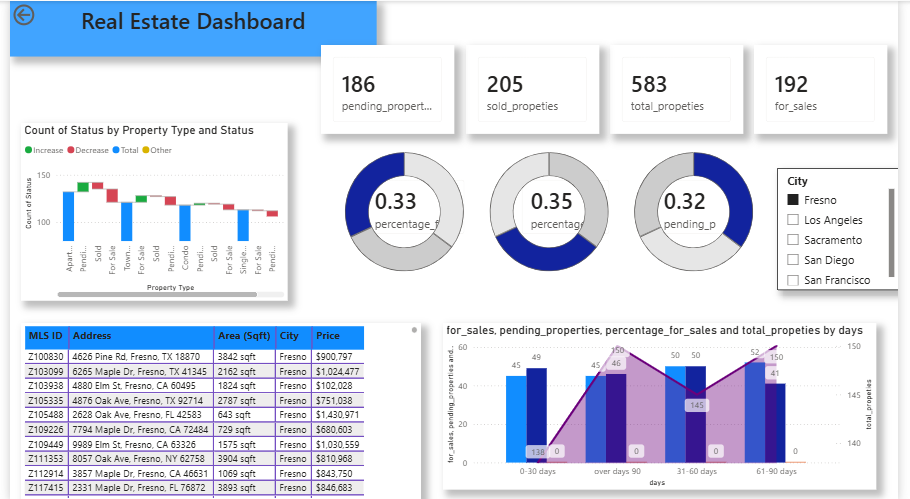

Layout of this report page (visuals, bound fields, positions):
{"tool":"powerbi","page":{"name":"Page 1","canvas":[1280,720],"ordinal":0},"visuals":[{"type":"cardVisual","fields":{"Data":["Real Estate.total_propeties"]},"box":[864,64,192,128],"z":0},{"type":"textbox","box":[0,0,528,80],"z":1000},{"type":"cardVisual","fields":{"Data":["Real Estate.sold_propeties"]},"box":[656,64,192,128],"z":2000},{"type":"cardVisual","fields":{"Data":["Real Estate.for_sales"]},"box":[1072,64,192,128],"z":3000},{"type":"cardVisual","fields":{"Data":["Real Estate.pending_properties"]},"box":[448,64,192,128],"z":4000},{"type":"cardVisual","fields":{"Data":["Real Estate.percentage_p"]},"box":[720,240,160,112],"z":5000},{"type":"cardVisual","fields":{"Data":["Real Estate.percentage_for_sales"]},"box":[496,240,176,112],"z":6000},{"type":"cardVisual","fields":{"Data":["Real Estate.pending_p"]},"box":[912,240,144,112],"z":7000},{"type":"donutChart","fields":{"Category":["Real Estate.Status"],"Y":["Real Estate.total_propeties"]},"box":[544,192,464,224],"z":8000},{"type":"donutChart","fields":{"Category":["Real Estate.Status"],"Y":["Real Estate.total_propeties"]},"box":[448,192,240,224],"z":9000},{"type":"donutChart","fields":{"Category":["Real Estate.Status"],"Y":["Real Estate.total_propeties"]},"box":[816,192,336,224],"z":10000},{"type":"lineClusteredColumnComboChart","fields":{"Category":["Real Estate.days"],"Y":["Real Estate.for_sales","Real Estate.pending_properties","Real Estate.percentage_for_sales"],"Y2":["Real Estate.total_propeties"]},"box":[624,464,624,240],"z":11000},{"type":"tableEx","fields":{"Values":["Real Estate.MLS ID","Real Estate.Address","Real Estate.Area (Sqft)","Real Estate.City","Real Estate.Price"]},"box":[16,464,576,256],"z":12000},{"type":"actionButton","box":[0,0,100,40],"z":13000},{"type":"waterfallChart","fields":{"Category":["Real Estate.Property Type"],"Breakdown":["Real Estate.Status"],"Y":["CountNonNull(Real Estate.Status)"]},"box":[16,176,384,256],"z":14000},{"type":"slicer","fields":{"Values":["Real Estate.City"]},"box":[1104,240,176,176],"z":15000}]}

Visuals, with their boxes on the page's 1280x720 design canvas (x1, y1, x2, y2). These are canvas units, not pixel positions in the 910x499 screenshot, which may show the page scaled, cropped or inside an application window:
cardVisual - Real Estate.total_propeties: [x1=864, y1=64, x2=1056, y2=192]
textbox: [x1=0, y1=0, x2=528, y2=80]
cardVisual - Real Estate.sold_propeties: [x1=656, y1=64, x2=848, y2=192]
cardVisual - Real Estate.for_sales: [x1=1072, y1=64, x2=1264, y2=192]
cardVisual - Real Estate.pending_properties: [x1=448, y1=64, x2=640, y2=192]
cardVisual - Real Estate.percentage_p: [x1=720, y1=240, x2=880, y2=352]
cardVisual - Real Estate.percentage_for_sales: [x1=496, y1=240, x2=672, y2=352]
cardVisual - Real Estate.pending_p: [x1=912, y1=240, x2=1056, y2=352]
donutChart - Real Estate.Status x Real Estate.total_propeties: [x1=544, y1=192, x2=1008, y2=416]
donutChart - Real Estate.Status x Real Estate.total_propeties: [x1=448, y1=192, x2=688, y2=416]
donutChart - Real Estate.Status x Real Estate.total_propeties: [x1=816, y1=192, x2=1152, y2=416]
lineClusteredColumnComboChart - Real Estate.days x Real Estate.for_sales: [x1=624, y1=464, x2=1248, y2=704]
tableEx - Real Estate.MLS ID x Real Estate.Address: [x1=16, y1=464, x2=592, y2=720]
actionButton: [x1=0, y1=0, x2=100, y2=40]
waterfallChart - Real Estate.Property Type x Real Estate.Status: [x1=16, y1=176, x2=400, y2=432]
slicer - Real Estate.City: [x1=1104, y1=240, x2=1280, y2=416]
